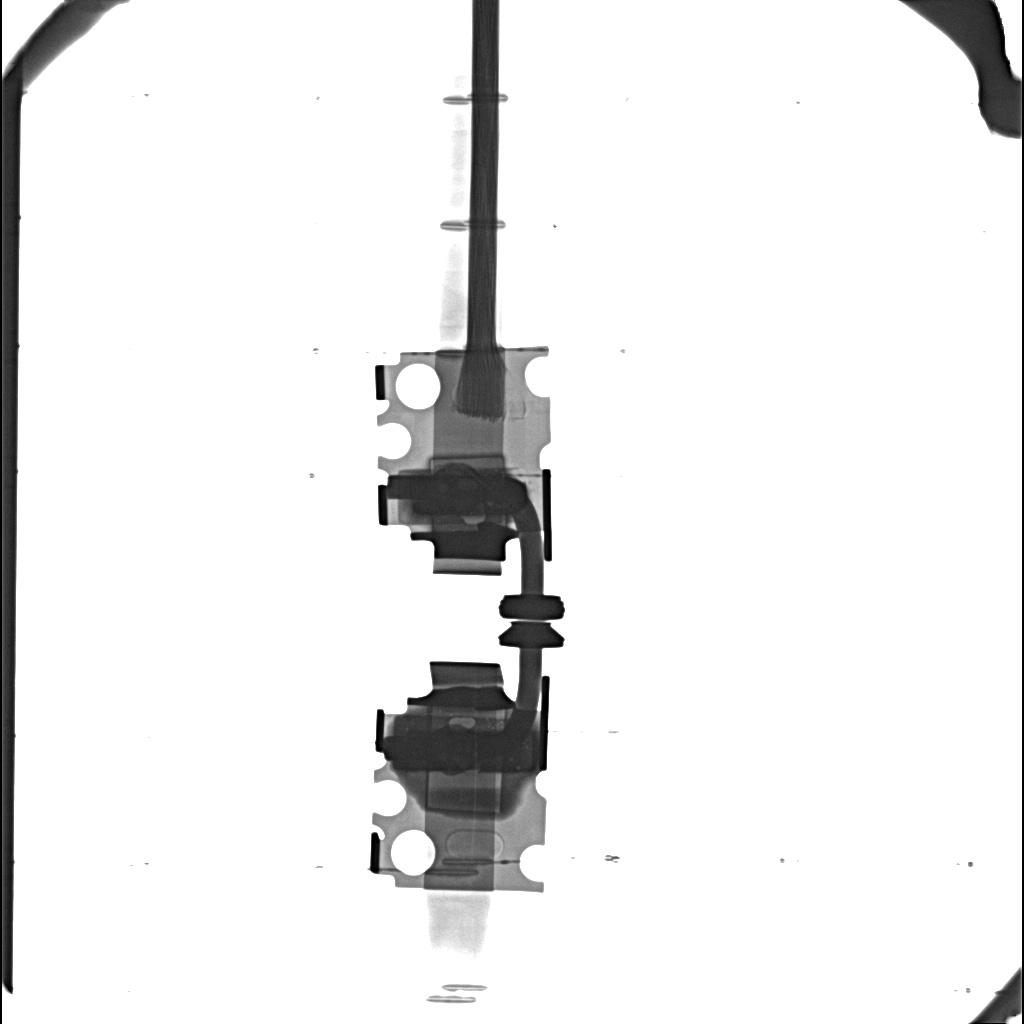defect: (395, 728, 534, 774), (412, 474, 528, 515), (422, 774, 506, 816), (428, 454, 506, 471), (449, 716, 474, 728), (461, 516, 485, 525)
